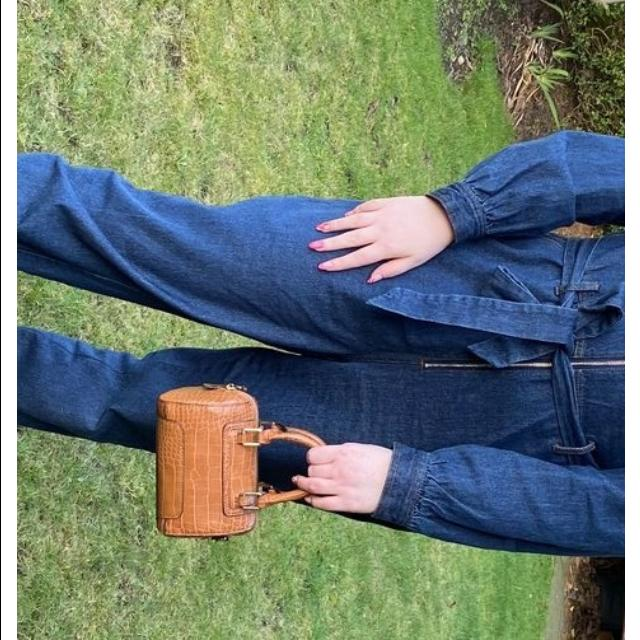denim: (384, 132, 624, 556)
